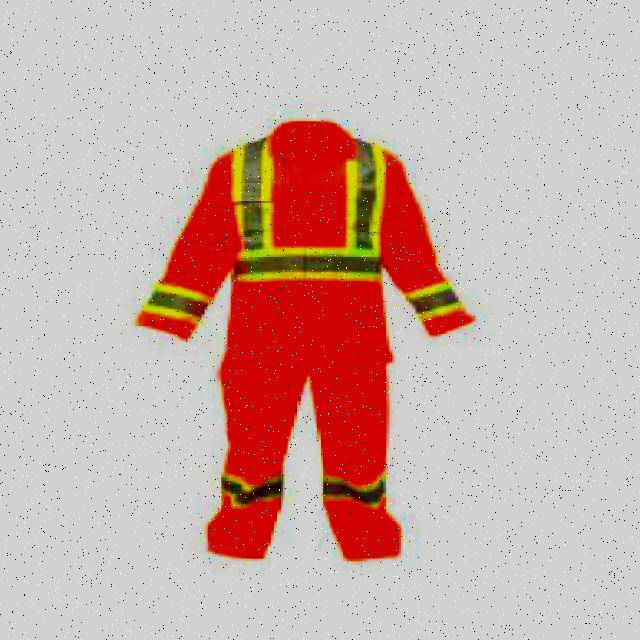Mask: (141, 116, 474, 549)
